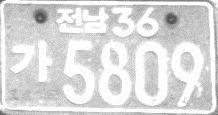0: (132, 40, 169, 106)
3: (110, 6, 136, 38)
5: (61, 38, 96, 105)
6: (136, 6, 159, 38)
8: (97, 39, 131, 106)
9: (169, 40, 204, 108)
가: (9, 38, 54, 84)
전남_O: (55, 6, 110, 35)
